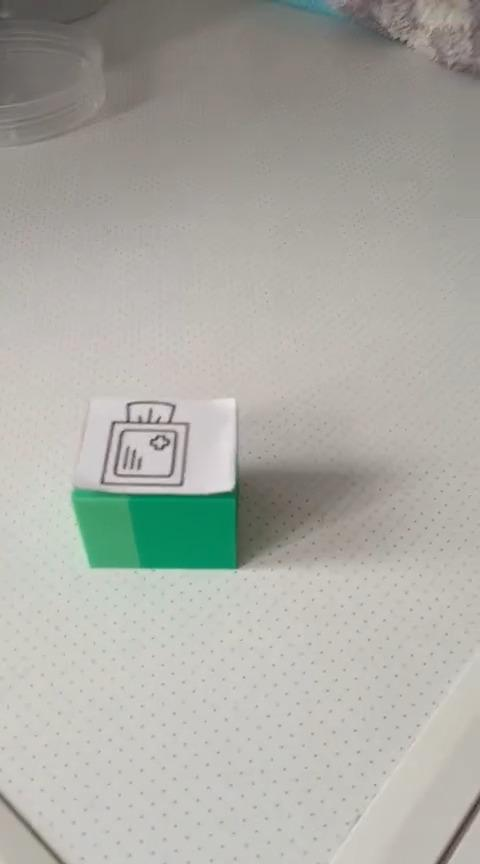Gauze: (70, 395, 239, 570)
